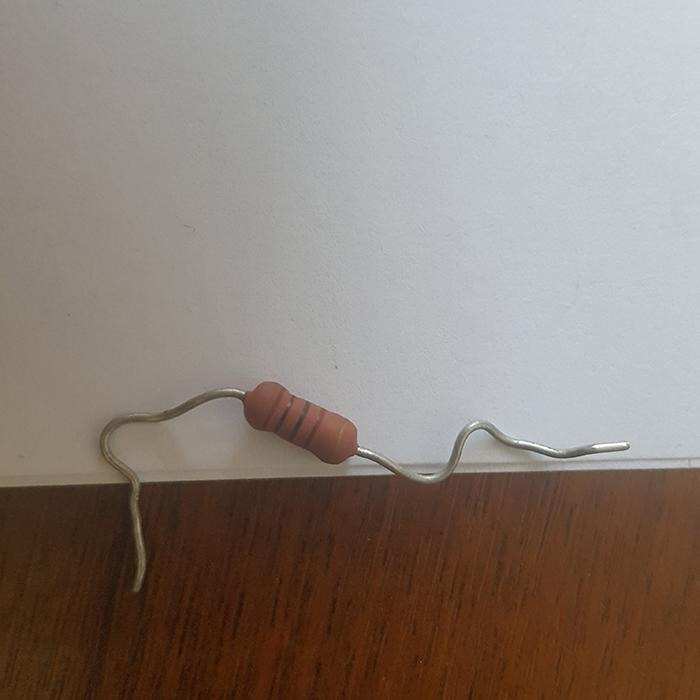resistor: (242, 381, 358, 463)
